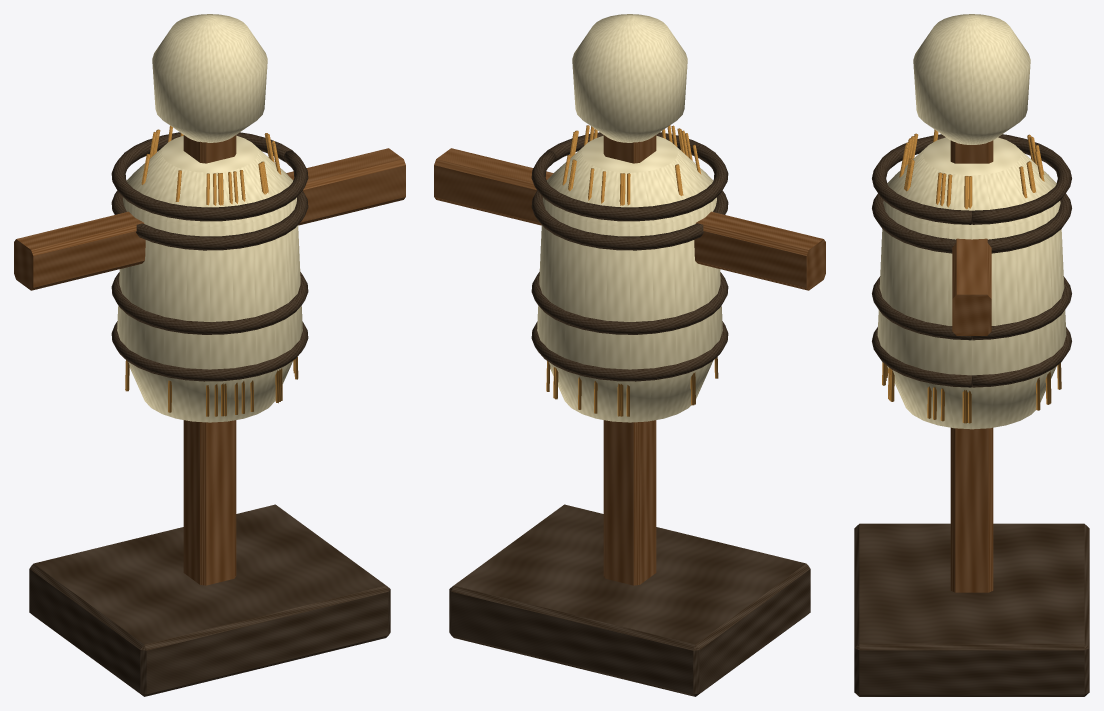
Rendered from training_dummy.glb.
The picture shows the model from 3 angles, left to right: view 1: azimuth 30°, elevation 25°; view 2: azimuth 150°, elevation 25°; view 3: azimuth 270°, elevation 25°; orthographic projection.
Parts seen in each view (by area): view 1: training_dummy_Joinery, training_dummy_Structure, training_dummy_Detail, training_dummy_Metalwork; view 2: training_dummy_Joinery, training_dummy_Structure, training_dummy_Detail, training_dummy_Metalwork; view 3: training_dummy_Joinery, training_dummy_Structure, training_dummy_Detail, training_dummy_Metalwork.
Part boxes in pixels (<box>): training_dummy_Joinery: <box>14,135,405,696</box>; training_dummy_Structure: <box>117,14,302,422</box>; training_dummy_Detail: <box>111,132,308,381</box>; training_dummy_Metalwork: <box>125,125,298,416</box>; training_dummy_Joinery: <box>434,135,825,696</box>; training_dummy_Structure: <box>537,14,722,422</box>; training_dummy_Detail: <box>531,132,728,381</box>; training_dummy_Metalwork: <box>546,125,718,416</box>; training_dummy_Joinery: <box>854,140,1089,696</box>; training_dummy_Structure: <box>877,14,1066,429</box>; training_dummy_Detail: <box>872,134,1071,387</box>; training_dummy_Metalwork: <box>882,129,1061,423</box>.
Size of the model in its own units: 1.34 by 2.09 by 0.72.
Materials: 2 (2 with a texture image).
